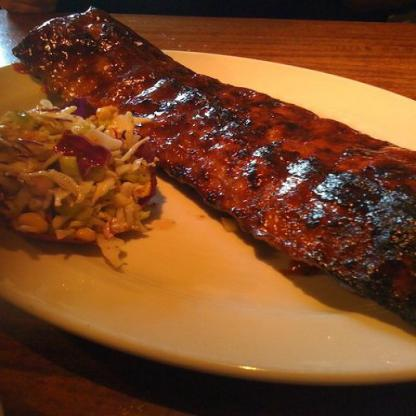pork rib: (19, 5, 415, 326)
